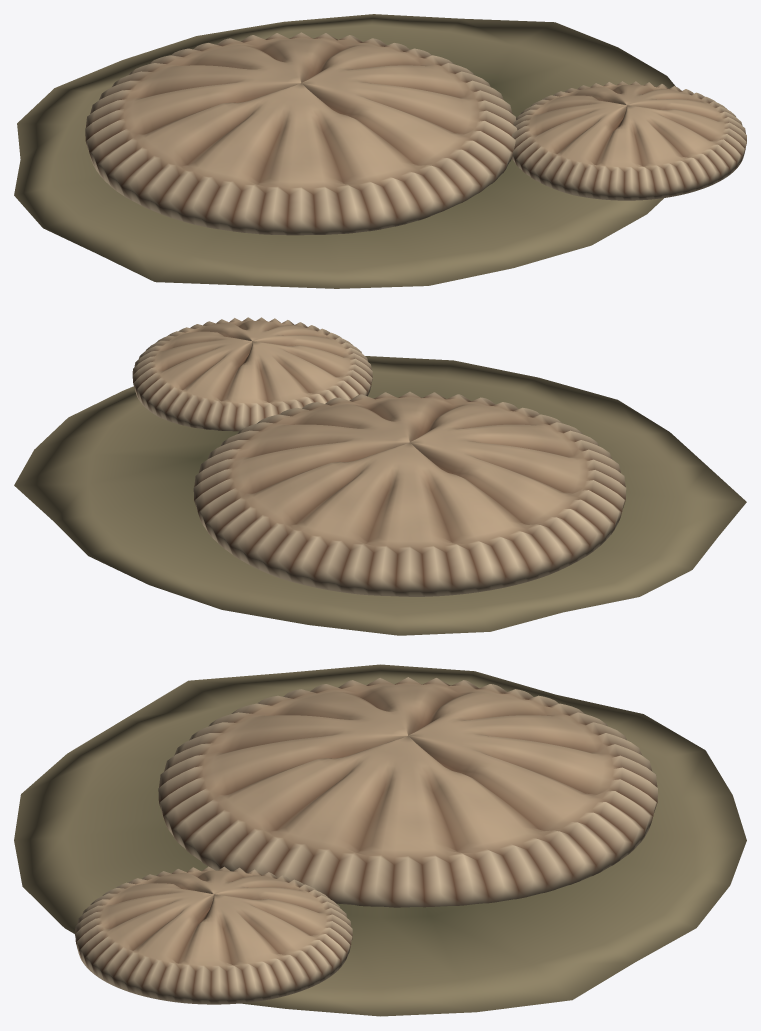
File: Albumares.fbx
3 views of the same model, one above another, from view 1: azimuth 30°, elevation 25°; view 2: azimuth 150°, elevation 25°; view 3: azimuth 270°, elevation 25° (orthographic). The views are drawn at different scales.
Visible parts, largest first — view 1: Albumares; view 2: Albumares; view 3: Albumares.
Part boxes in pixels (x1,y1,x2,y2): Albumares: (14, 14, 746, 288); Albumares: (14, 317, 746, 635); Albumares: (14, 664, 746, 1016).
Bounding box in the file's own units: 1.5 × 0.162 × 1.32.
